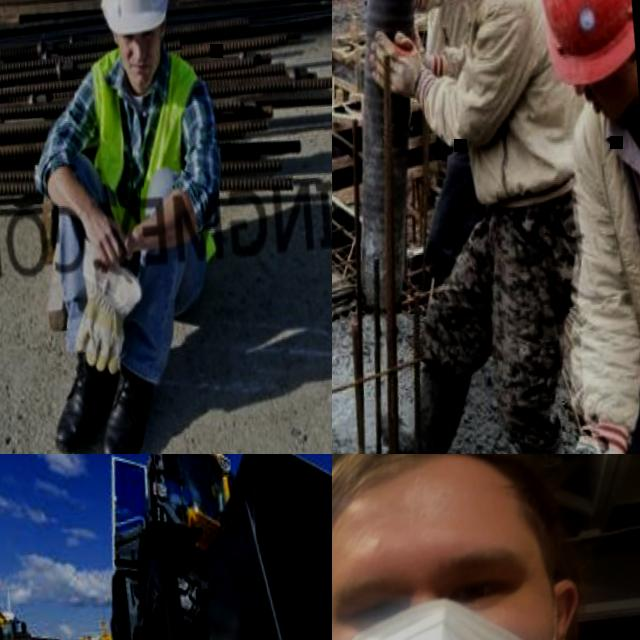Hardhat: (538, 0, 638, 86), (92, 0, 174, 41)
Mask: (332, 590, 577, 640)
NO-Hardhat: (332, 454, 560, 568)
NO-Mask: (120, 52, 160, 92), (597, 81, 631, 125)
NO-Safety Vest: (447, 0, 586, 207), (594, 100, 640, 374), (419, 0, 481, 62)
Person: (333, 0, 625, 454), (11, 0, 245, 454), (332, 454, 640, 640), (523, 0, 640, 454)
Safety Vest: (81, 42, 217, 274)
vehicle: (81, 454, 332, 640), (0, 542, 19, 640)
